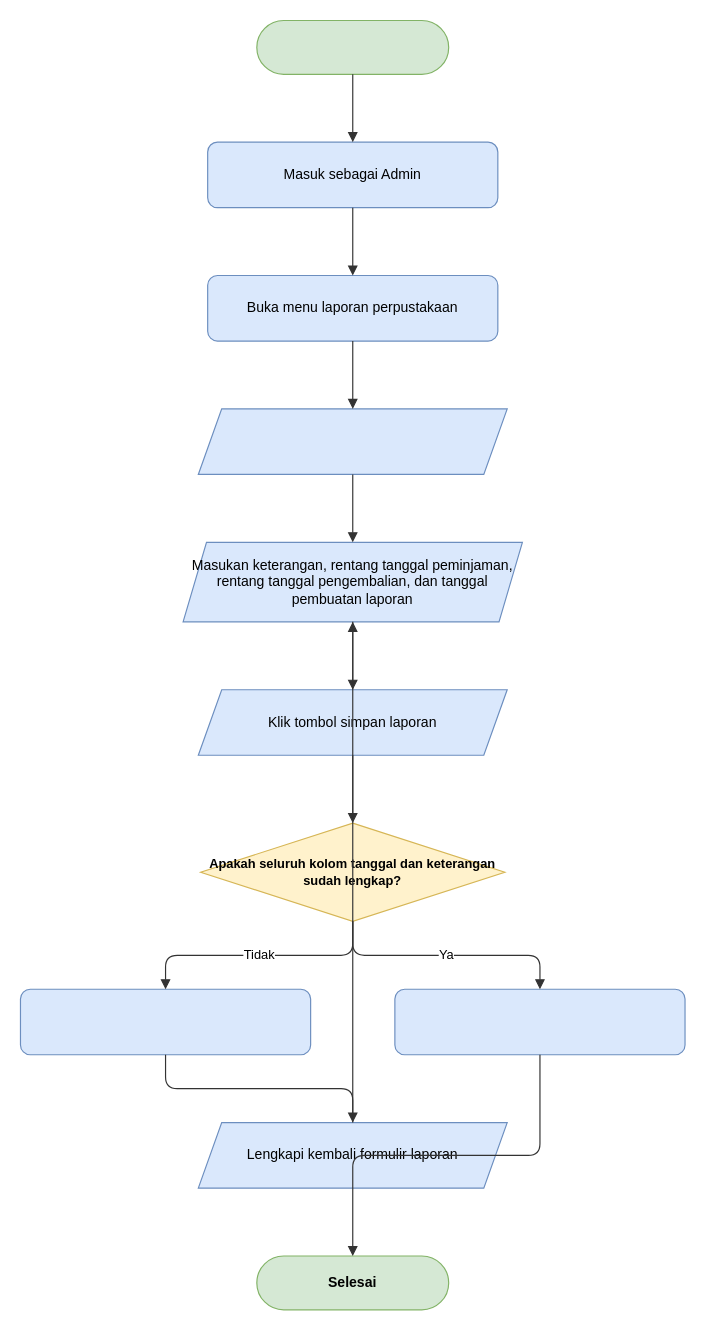
This 706x1330 diagram has some shape labels left out. The shapes that lost their labels are listed below. From the top down, each one's centre as x and y in pixels, then its label:
At [352,46]: "Mulai".
At [352,441]: "Klik tombol buat laporan baru".
At [165,1021]: "Tampilkan peringatan isian belum lengkap".
At [539,1021]: "Tampilkan pesan laporan berhasil dibuat".
